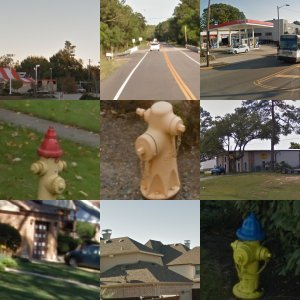公車: (228, 106, 300, 199), (27, 109, 99, 155), (232, 211, 284, 257)
汽車: (100, 57, 129, 101), (56, 76, 79, 94), (83, 72, 96, 88)
行人穿越道: (100, 232, 200, 285)
高山或山丘: (202, 48, 300, 82)
